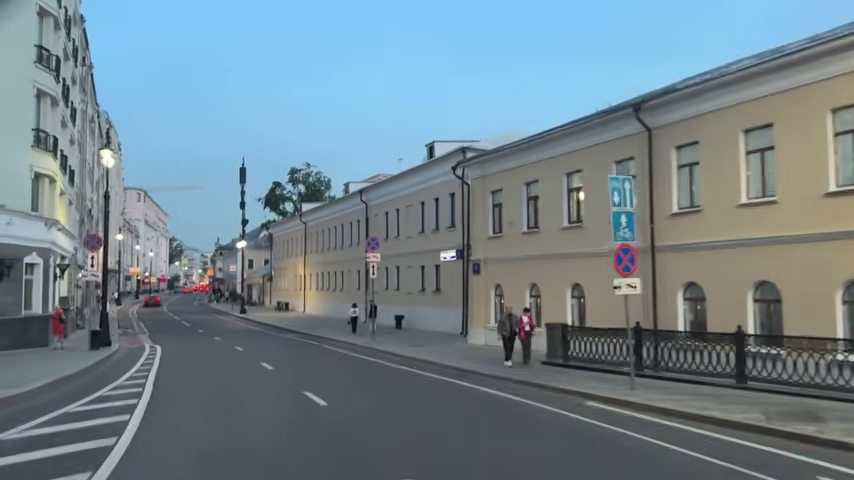acesa: (97, 148, 118, 169)
